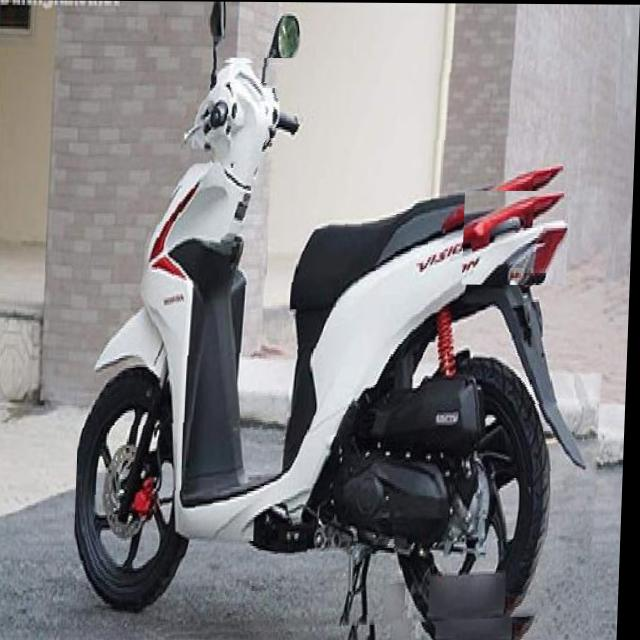All: (75, 57, 618, 640)
Head: (182, 62, 314, 165)
Tail: (464, 190, 571, 285)
